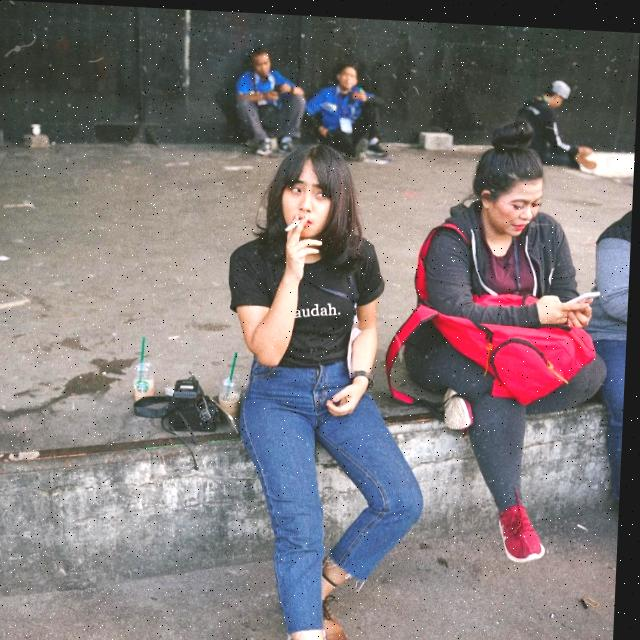cigarette: (286, 215, 303, 229)
